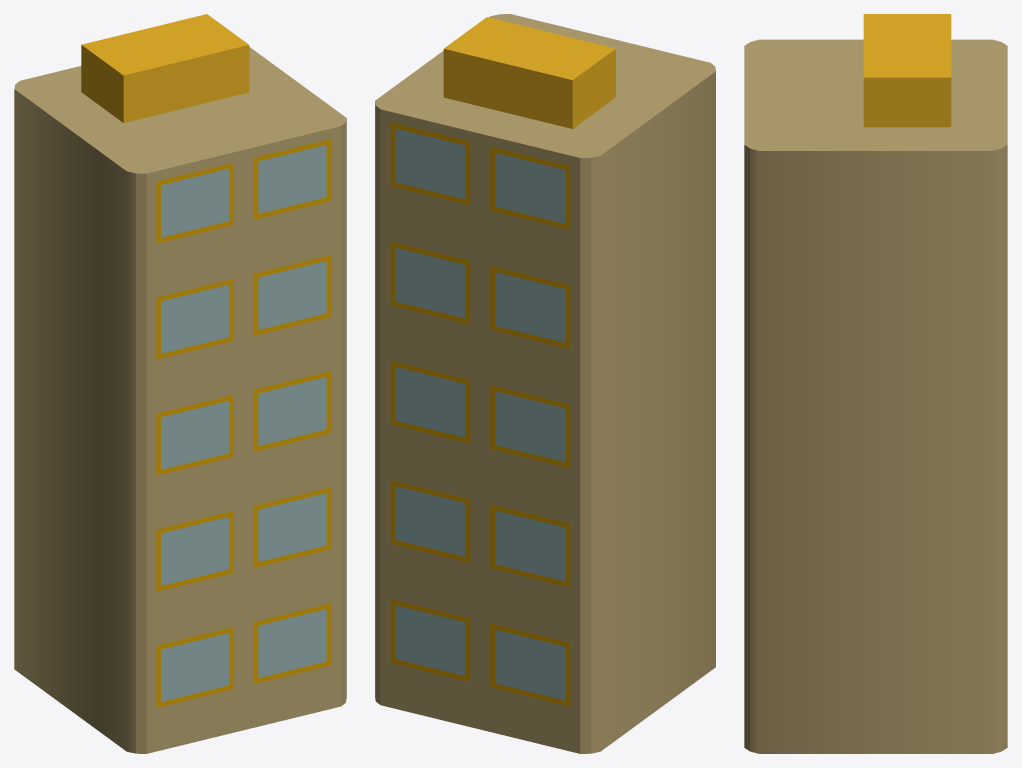
File: predio1.FBX
3 renders of one model, left to right at view 1: azimuth 30°, elevation 25°; view 2: azimuth 150°, elevation 25°; view 3: azimuth 270°, elevation 25°, orthographic. The views are drawn at different scales.
Visible parts, largest first — view 1: Box001; view 2: Box001; view 3: Box001.
Part boxes in pixels (<box>): Box001: <box>14,14,346,753</box>; Box001: <box>375,14,715,753</box>; Box001: <box>744,14,1007,753</box>.
Size of the model in its own units: 20 by 54.64 by 20.
